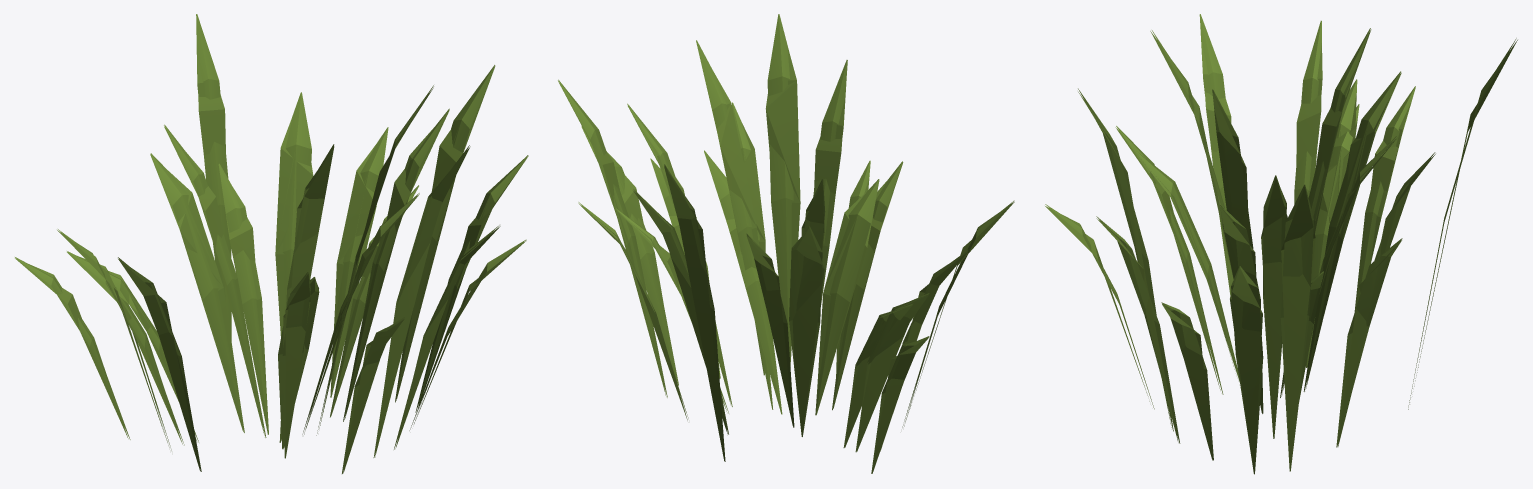
The model's file is Grass.glb.
3 renders of one model, left to right at view 1: azimuth 30°, elevation 25°; view 2: azimuth 150°, elevation 25°; view 3: azimuth 270°, elevation 25°, orthographic. The views are drawn at different scales.
Visible parts, largest first — view 1: Grass_L0, Grass_L2, Grass_L1; view 2: Grass_L0, Grass_L2, Grass_L1; view 3: Grass_L2, Grass_L0, Grass_L1.
Part boxes in pixels (x1,y1,x2,y2): Grass_L0: [15, 14, 528, 472]; Grass_L2: [16, 70, 524, 473]; Grass_L1: [15, 15, 528, 473]; Grass_L0: [558, 14, 1014, 473]; Grass_L2: [560, 54, 1014, 473]; Grass_L1: [558, 41, 1013, 472]; Grass_L2: [1045, 31, 1516, 474]; Grass_L0: [1045, 14, 1516, 473]; Grass_L1: [1045, 29, 1517, 470].
Bounding box in the file's own units: 0.6009 × 0.4504 × 0.5027.
